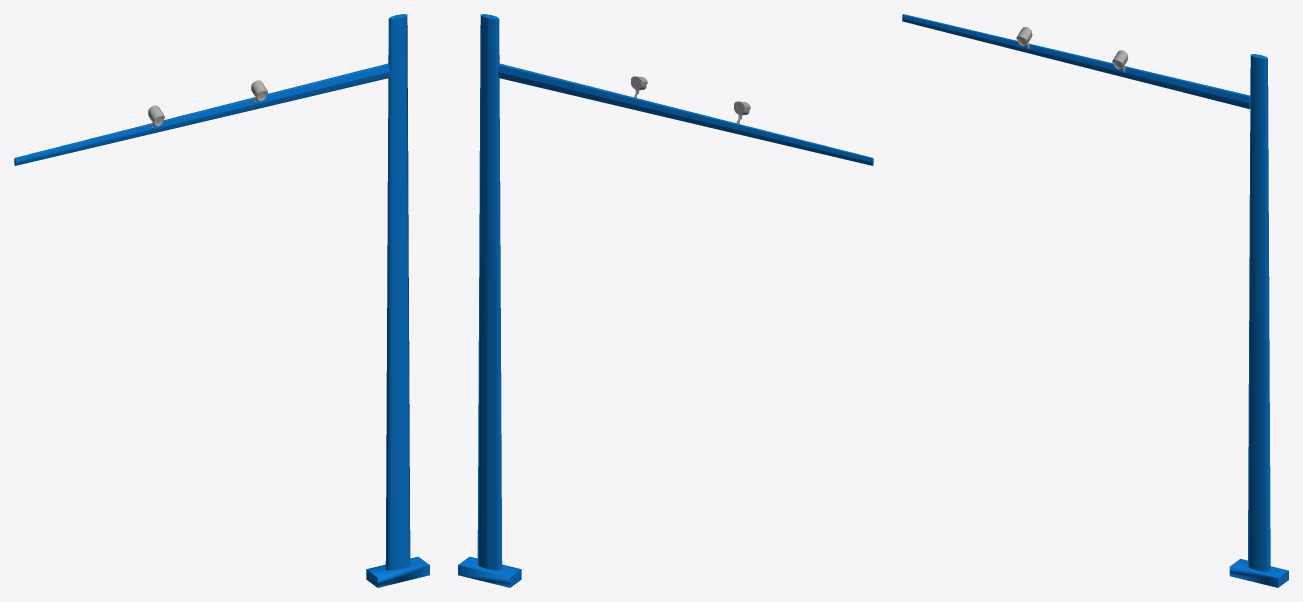
Rendered from poleWith2Camera.glb.
3 views of the same model, side by side, from view 1: azimuth 30°, elevation 25°; view 2: azimuth 150°, elevation 25°; view 3: azimuth 330°, elevation 25° (orthographic). The views are drawn at different scales.
Parts seen in each view (by area): view 1: node_id68, node_id53, node_id48; view 2: node_id68, node_id53, node_id48; view 3: node_id68, node_id53, node_id48.
Part boxes in pixels (left/top/right/bottom): node_id68: left=385, top=14, right=410, bottom=570; node_id53: left=15, top=63, right=389, bottom=165; node_id48: left=366, top=556, right=429, bottom=587; node_id68: left=477, top=14, right=502, bottom=570; node_id53: left=498, top=63, right=872, bottom=165; node_id48: left=458, top=556, right=521, bottom=587; node_id68: left=1248, top=54, right=1270, bottom=571; node_id53: left=902, top=14, right=1249, bottom=108; node_id48: left=1229, top=559, right=1288, bottom=587.
Bounding box in the file's own units: 2.85 × 3.73 × 0.1819.
Materials: 13 (13 with a texture image).
